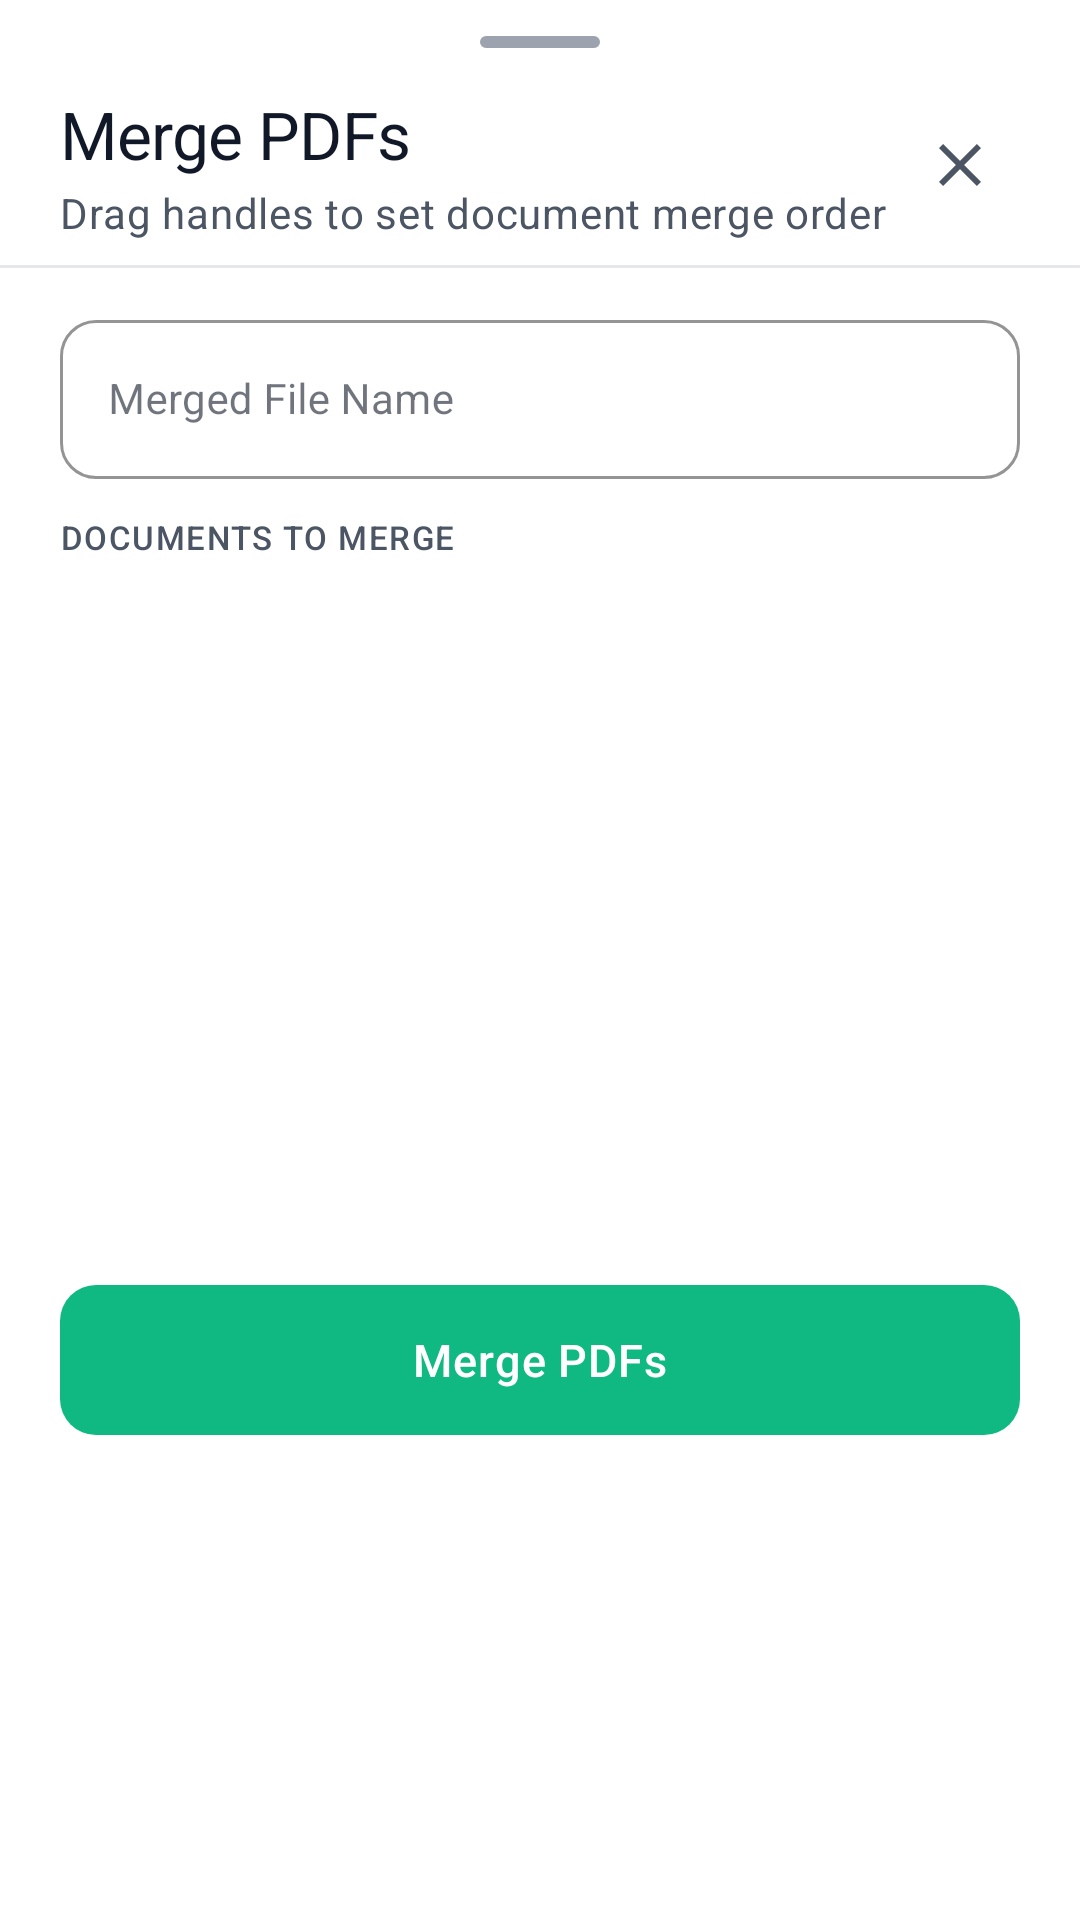

Point at icon controls on the screen. Image size 1080*1920, points as (x=x, y=y).
Close: (x=960, y=165)
